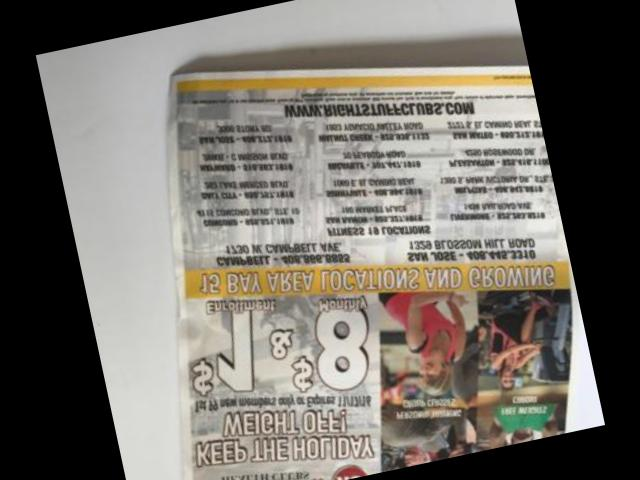cardboard paper: (172, 68, 574, 480)
